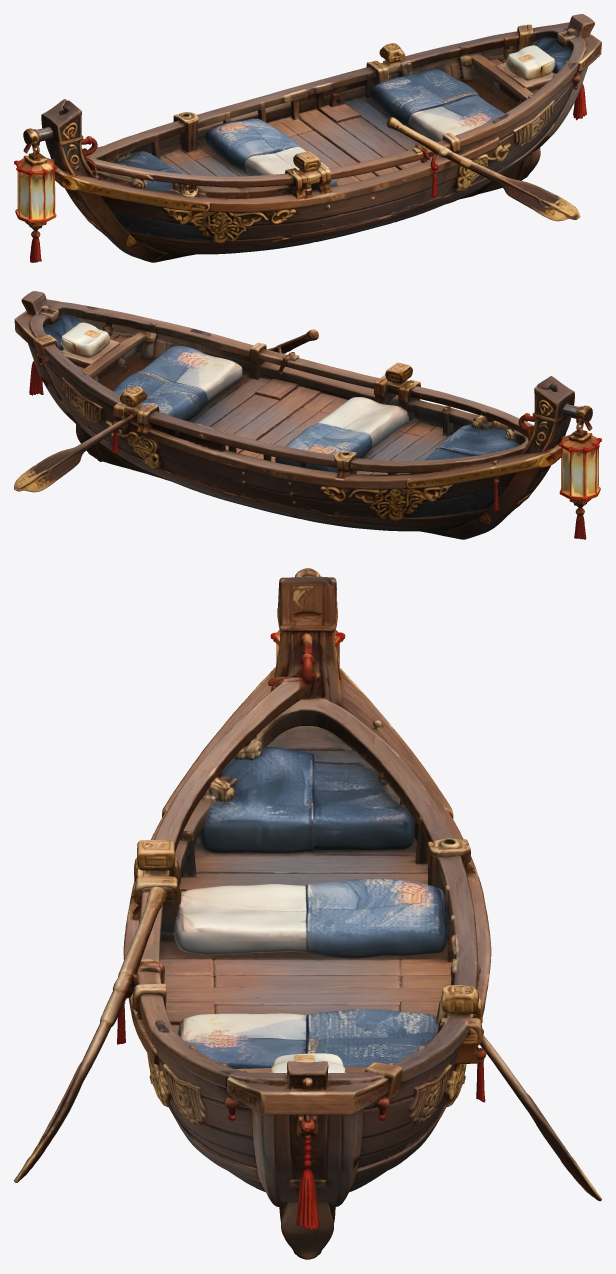
The model's file is open-boat.glb.
The picture shows the model from 3 angles, top to bottom: view 1: azimuth 30°, elevation 25°; view 2: azimuth 150°, elevation 25°; view 3: azimuth 270°, elevation 25°; orthographic projection. The views are drawn at different scales.
Visible parts, largest first — view 1: tripo_part_0, tripo_part_1, tripo_part_2, tripo_part_5, tripo_part_4, tripo_part_9, tripo_part_3, tripo_part_8, tripo_part_10, tripo_part_6, tripo_part_7; view 2: tripo_part_0, tripo_part_1, tripo_part_2, tripo_part_5, tripo_part_4, tripo_part_8, tripo_part_3, tripo_part_10, tripo_part_6, tripo_part_7, tripo_part_9; view 3: tripo_part_0, tripo_part_4, tripo_part_8, tripo_part_1, tripo_part_5, tripo_part_3, tripo_part_2, tripo_part_9, tripo_part_10, tripo_part_6.
Part boxes in pixels (x1,y1,x2,y2): tripo_part_0: (65, 24, 588, 262); tripo_part_1: (55, 139, 499, 212); tripo_part_2: (14, 99, 98, 262); tripo_part_5: (370, 68, 504, 142); tripo_part_4: (205, 118, 337, 187); tripo_part_9: (386, 117, 580, 221); tripo_part_3: (532, 14, 601, 120); tripo_part_8: (107, 151, 203, 198); tripo_part_10: (455, 98, 541, 147); tripo_part_6: (506, 45, 554, 80); tripo_part_7: (145, 121, 223, 152); tripo_part_0: (14, 305, 550, 539); tripo_part_1: (258, 349, 561, 489); tripo_part_2: (518, 376, 601, 539); tripo_part_5: (113, 345, 242, 420); tripo_part_4: (275, 397, 407, 472); tripo_part_8: (411, 415, 519, 473); tripo_part_3: (14, 291, 85, 395); tripo_part_10: (155, 319, 253, 357); tripo_part_6: (61, 322, 110, 357); tripo_part_7: (286, 466, 402, 488); tripo_part_9: (267, 329, 318, 353); tripo_part_0: (132, 697, 601, 1259); tripo_part_4: (173, 878, 447, 958); tripo_part_8: (199, 735, 414, 853); tripo_part_1: (123, 667, 473, 1064); tripo_part_5: (178, 1009, 438, 1068); tripo_part_3: (227, 1061, 390, 1230); tripo_part_2: (268, 568, 345, 705); tripo_part_9: (14, 886, 167, 1182); tripo_part_10: (139, 995, 189, 1064); tripo_part_6: (270, 1053, 345, 1073).
Size of the model in its own units: 0.9809 by 0.3057 by 0.5155.
15 materials, 15 textured.
